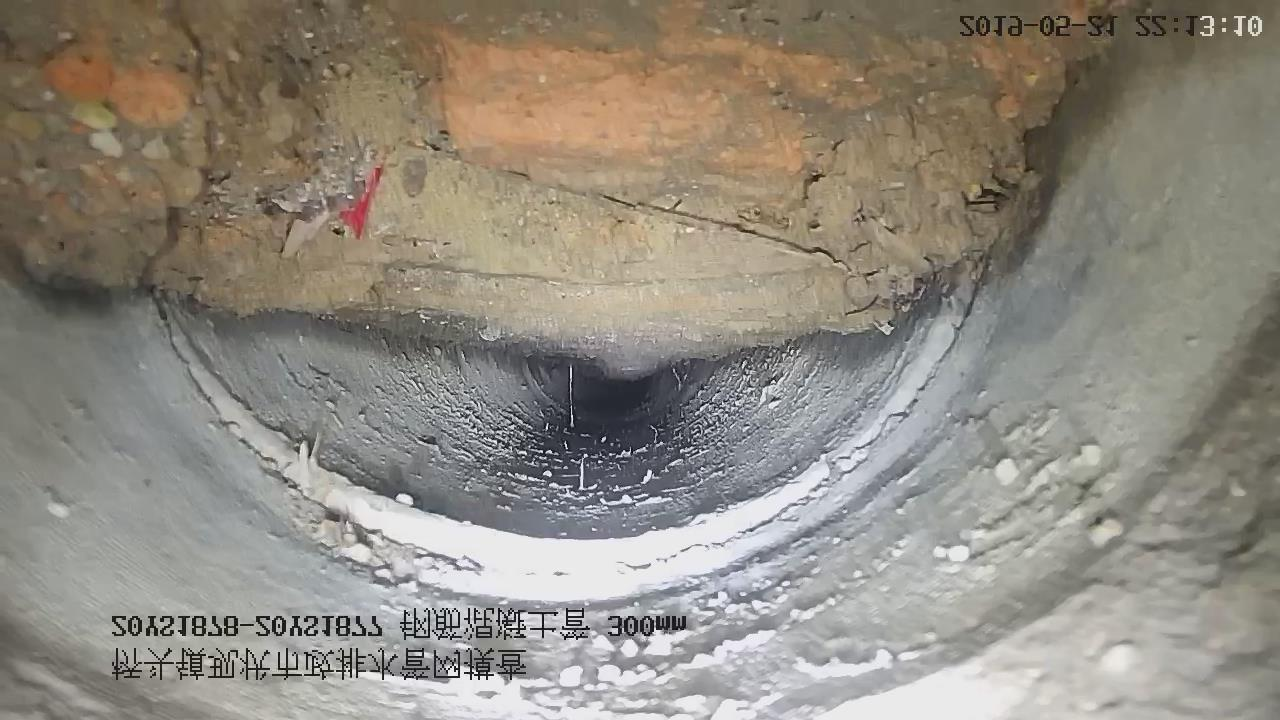CJ: (0, 1, 1098, 374)
CKTJ: (170, 304, 962, 574)
